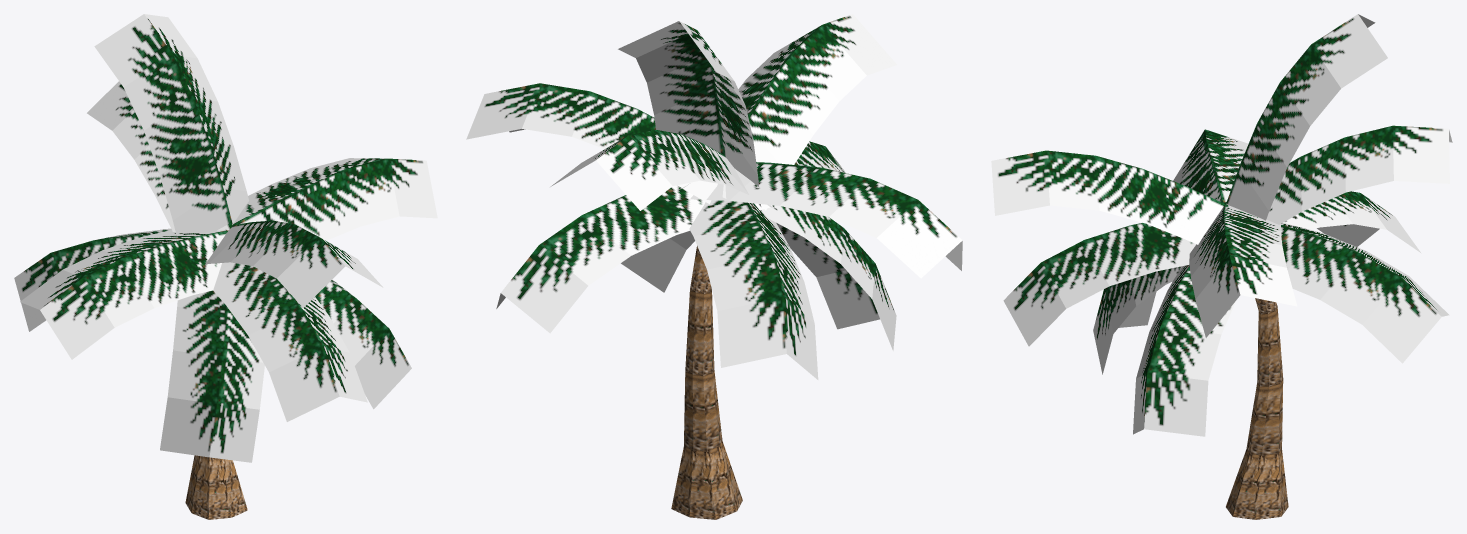
The model's file is PalmTree_2.glb.
The picture shows the model from 3 angles, left to right: view 1: azimuth 30°, elevation 25°; view 2: azimuth 150°, elevation 25°; view 3: azimuth 270°, elevation 25°; orthographic projection. The views are drawn at different scales.
Parts seen in each view (by area): view 1: PalmTree2.001; view 2: PalmTree2.001; view 3: PalmTree2.001.
Part boxes in pixels (x1,y1,x2,y2): PalmTree2.001: (14, 14, 437, 519); PalmTree2.001: (466, 14, 962, 519); PalmTree2.001: (991, 14, 1452, 519).
Bounding box in the file's own units: 25.64 × 28.23 × 24.55.
1 material, 1 textured.
